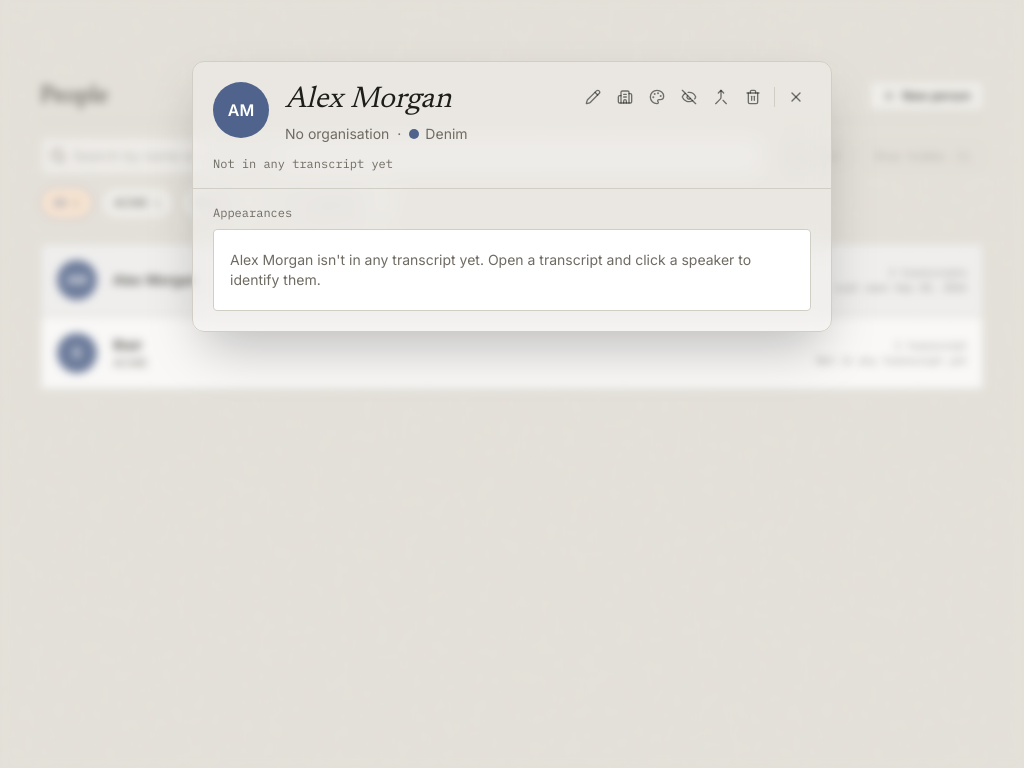
Test case: delete › the database refusing it says why
Expected: the dialog is shown, [192,61,832,332]
Expected: the heading "Appearances" is shown, [213,205,292,220]
Click the button named "Delete person". click: (753, 97)
box: [738,82,768,112]
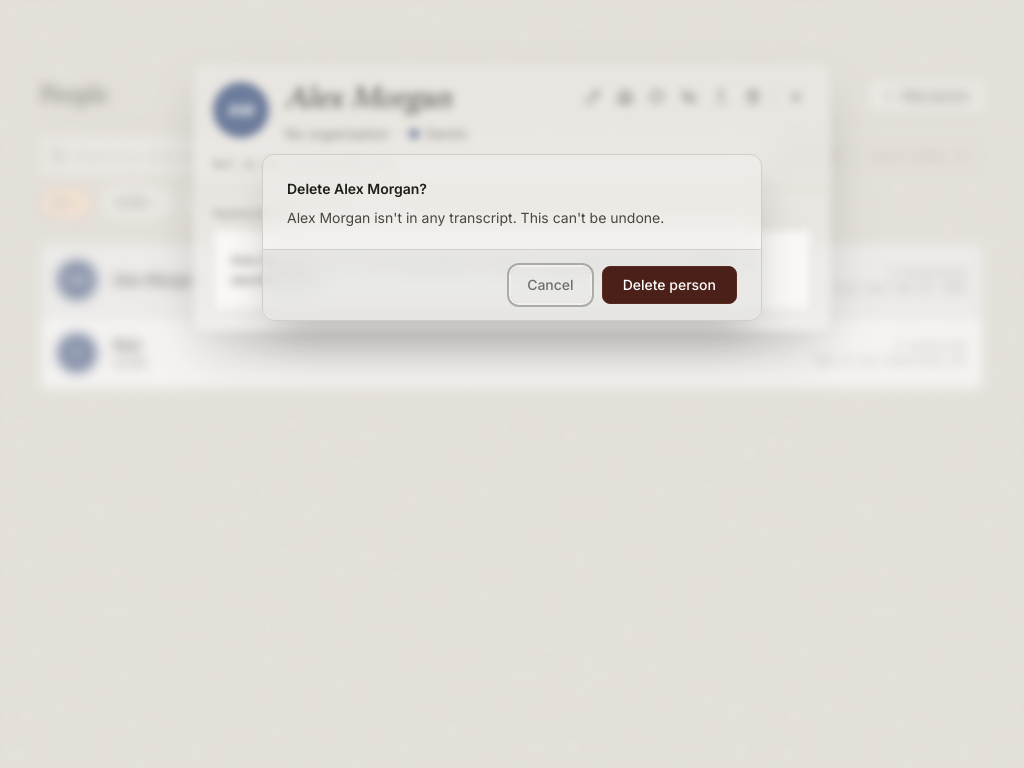
Click the button "Delete person". click: (669, 285)
box: [602,266,737,304]
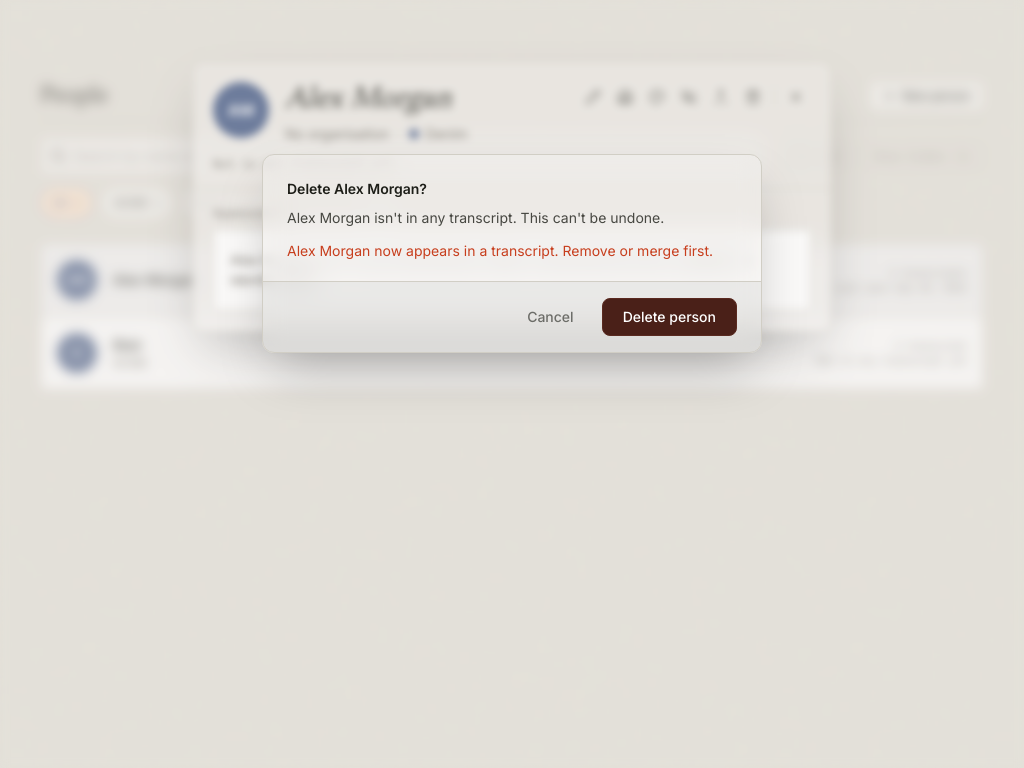
Result: the message reads "Alex Morgan now appears in a transcript. Remove or merge first." at [287,242,713,259]
